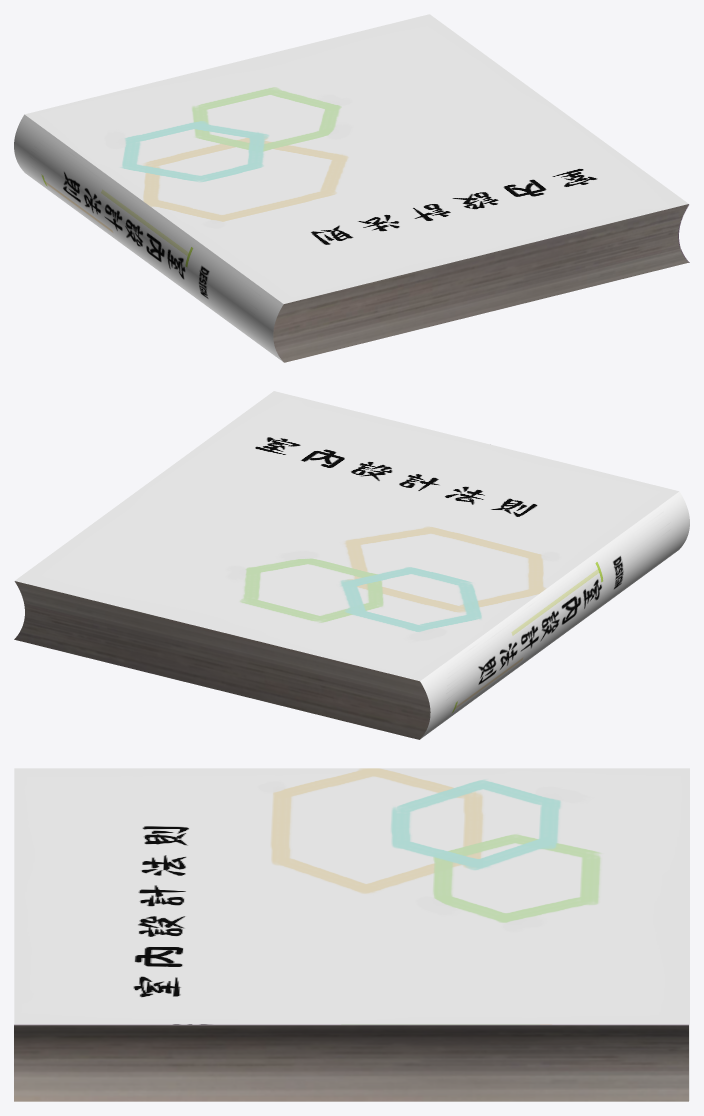
Rendered from book5.fbx.
3 views of the same model, one above another, from view 1: azimuth 30°, elevation 25°; view 2: azimuth 150°, elevation 25°; view 3: azimuth 270°, elevation 25° (orthographic). The views are drawn at different scales.
Visible parts, largest first — view 1: Arc001; view 2: Arc001; view 3: Arc001, Arc002.
Part boxes in pixels (box(x1,y1,x2,y2)): Arc001: box(14, 14, 688, 362); Arc001: box(14, 391, 689, 739); Arc001: box(14, 768, 689, 1100); Arc002: box(14, 1024, 688, 1101).
Size of the model in its own units: 221 by 30.51 by 238.
1 material, 1 textured.
